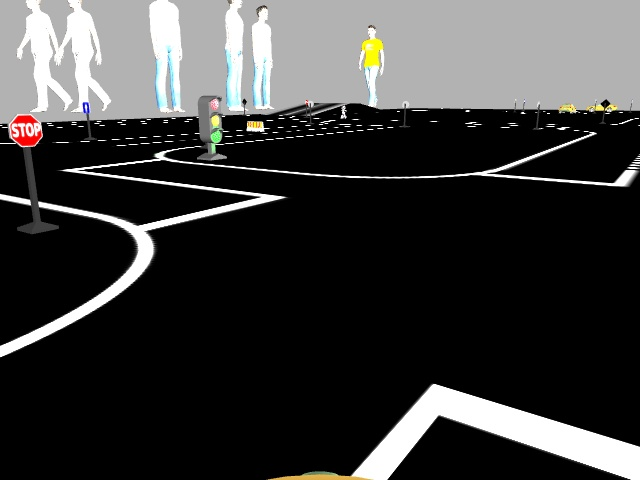ClosedRoadStand: (246, 121, 263, 132)
OneWay: (79, 100, 90, 113)
Stop: (8, 112, 42, 145)
TrafficLight: (198, 96, 222, 142)
